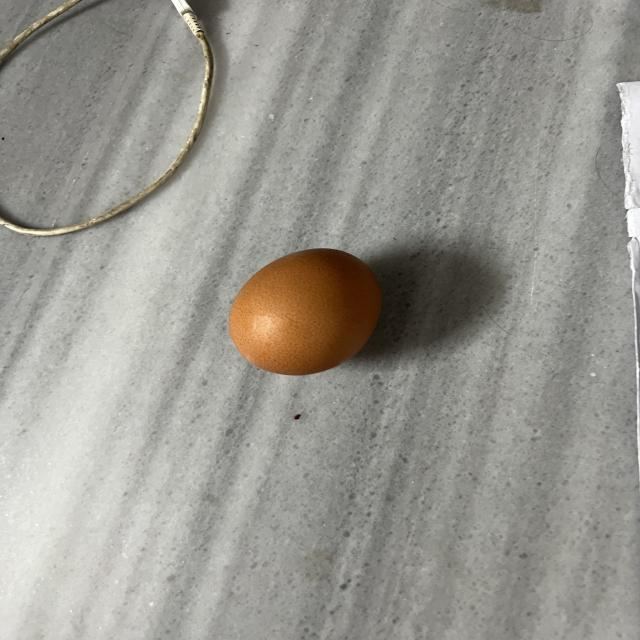egg: (224, 248, 394, 382)
